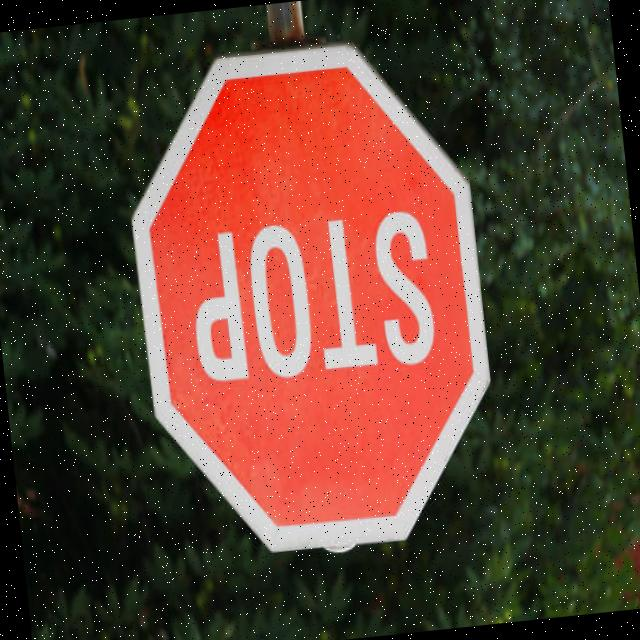stop: (110, 17, 510, 576)
